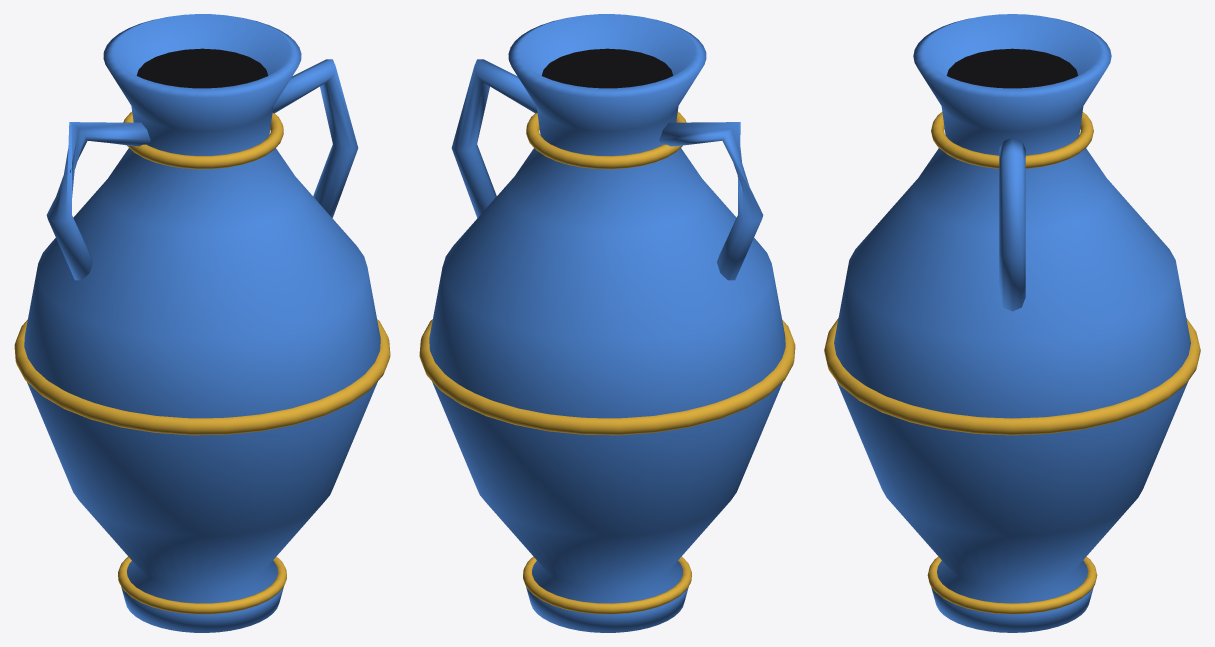
File: vase.glb
3 renders of one model, left to right at view 1: azimuth 30°, elevation 25°; view 2: azimuth 150°, elevation 25°; view 3: azimuth 270°, elevation 25°, orthographic.
Visible parts, largest first — view 1: vase; view 2: vase; view 3: vase.
Boxes of the visible parts, x1=… form: vase: x1=14, y1=14, x2=390, y2=632; vase: x1=419, y1=14, x2=795, y2=632; vase: x1=824, y1=14, x2=1200, y2=632.
Size of the model in its own units: 0.342 by 0.55 by 0.342.
